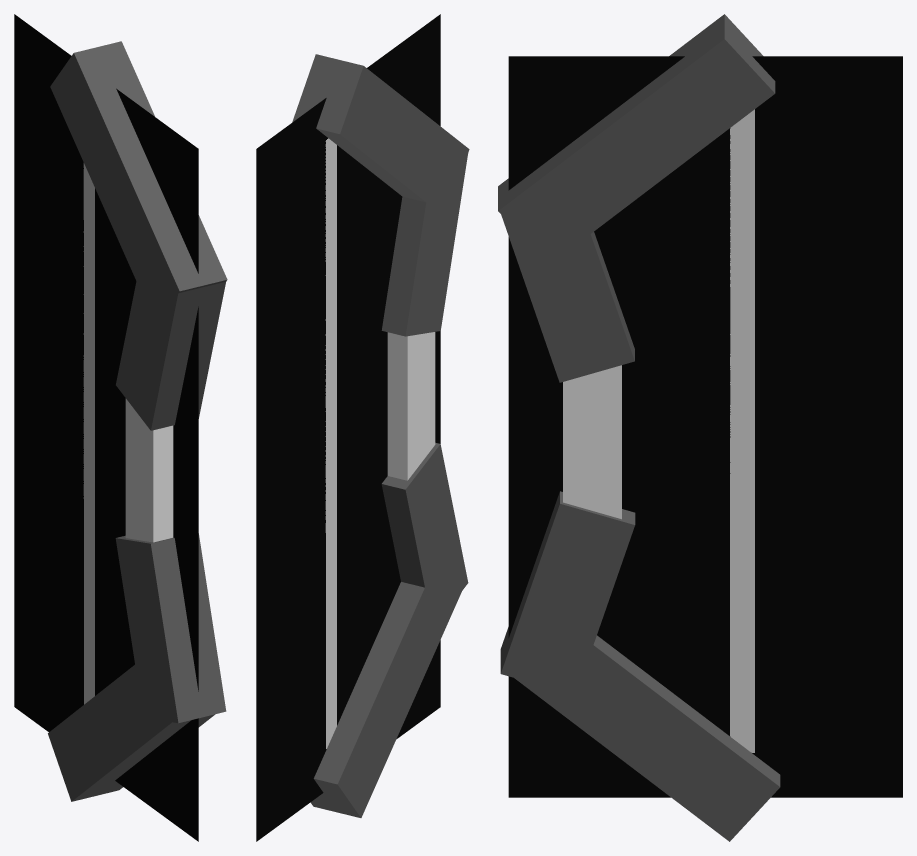
Rendered from bow.gltf.
3 views of the same model, side by side, from view 1: azimuth 30°, elevation 25°; view 2: azimuth 150°, elevation 25°; view 3: azimuth 270°, elevation 25° (orthographic). The views are drawn at different scales.
Visible parts, largest first — view 1: plane (×2), mesh (×3); view 2: plane (×2), mesh (×3); view 3: plane (×2), mesh (×3).
Boxes of the visible parts, x1,y1,x2,y2 form: plane (×2): (14, 14, 198, 841); mesh (×3): (48, 41, 227, 801); plane (×2): (256, 14, 440, 841); mesh (×3): (292, 54, 469, 817); plane (×2): (508, 56, 902, 797); mesh (×3): (498, 14, 780, 841).
Bounding box in the file's own units: 0.075 × 1.12 × 0.5134.
3 materials, 3 textured.
